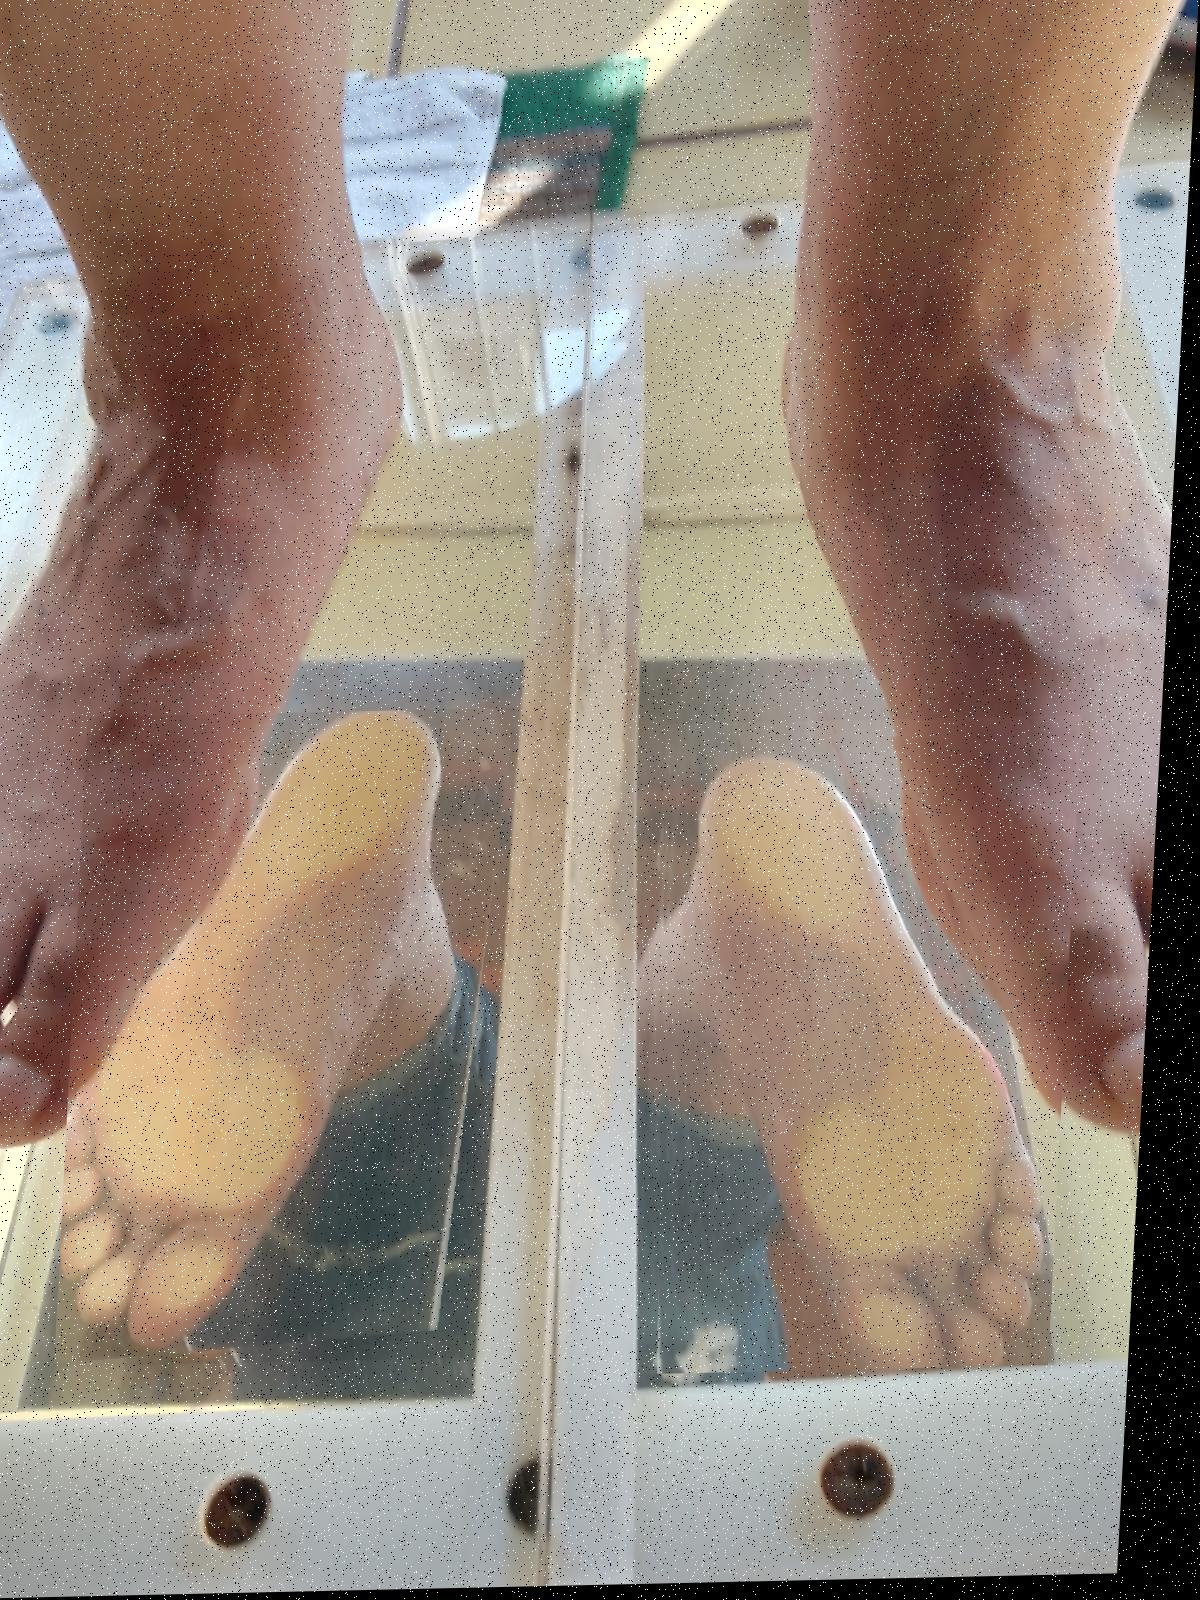9: (69, 711, 526, 1368)
Present: (648, 721, 1090, 1378)
